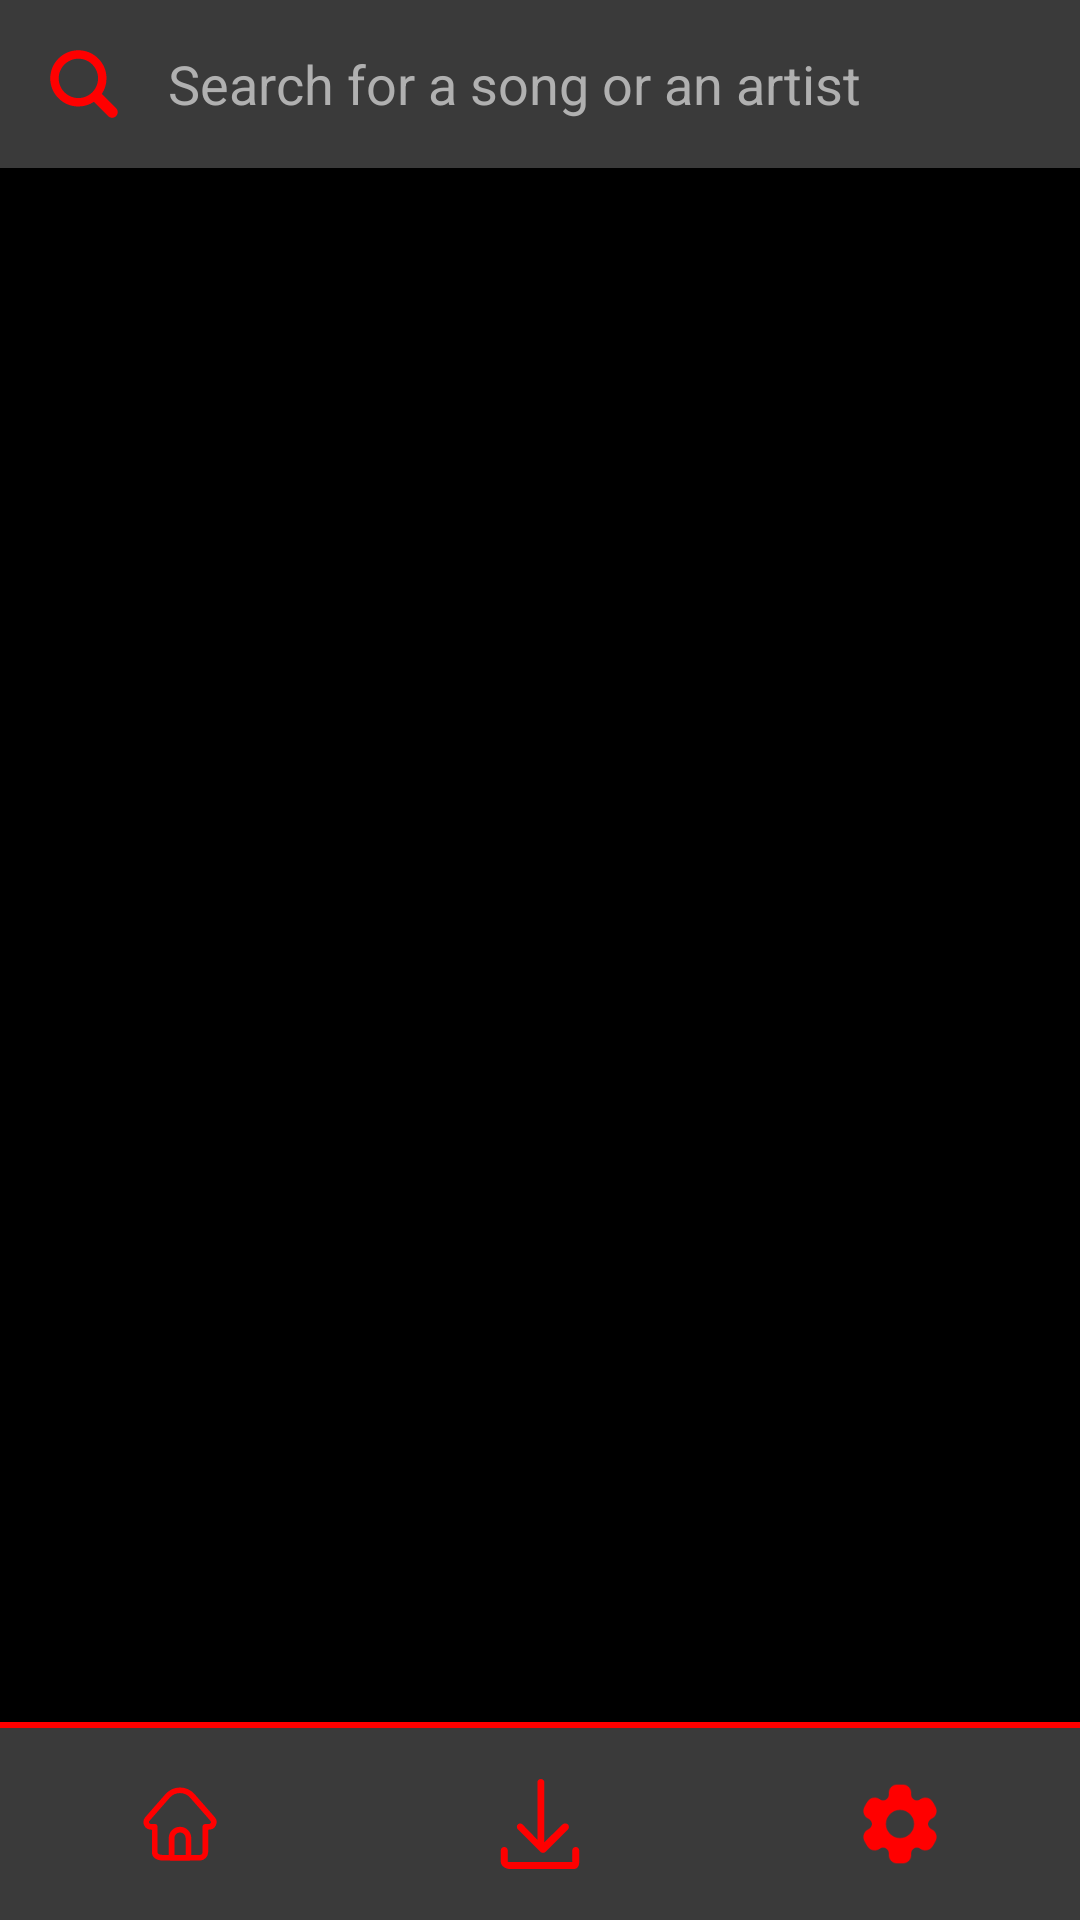

Named icons in this screenshot (1080px x 1920px) and their bounding boxes, [x1,y1,x2,y2]:
Downloads: [500,1779,580,1869]
Home: [143,1787,217,1861]
Settings: [863,1784,937,1864]
